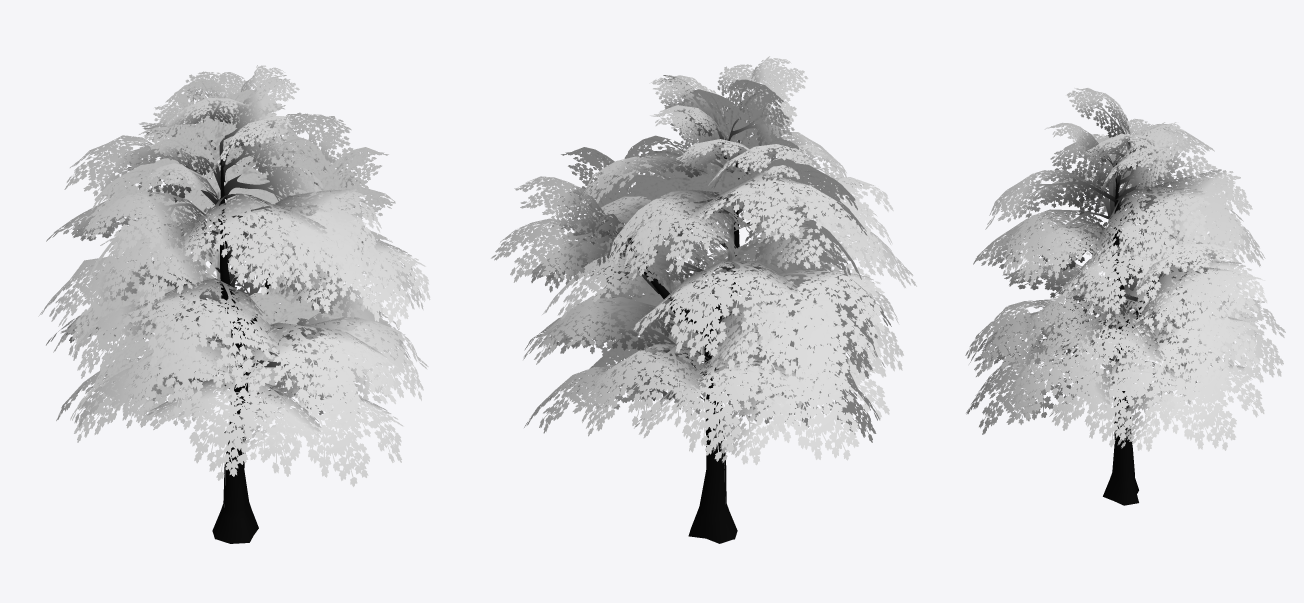
The model's file is Maple.fbx.
The picture shows the model from 3 angles, left to right: view 1: azimuth 30°, elevation 25°; view 2: azimuth 150°, elevation 25°; view 3: azimuth 270°, elevation 25°; orthographic projection. The views are drawn at different scales.
Parts seen in each view (by area): view 1: Maple_LOD0, Maple_Billboard; view 2: Maple_LOD0, Maple_Billboard; view 3: Maple_LOD0.
Part boxes in pixels (bbox=[...]): Maple_LOD0: bbox=[38, 65, 430, 543]; Maple_Billboard: bbox=[58, 75, 414, 539]; Maple_LOD0: bbox=[491, 56, 916, 543]; Maple_Billboard: bbox=[534, 75, 891, 539]; Maple_LOD0: bbox=[965, 88, 1285, 505].
Size of what is drawn, in the model's own units: 2472 by 1861 by 2472.
